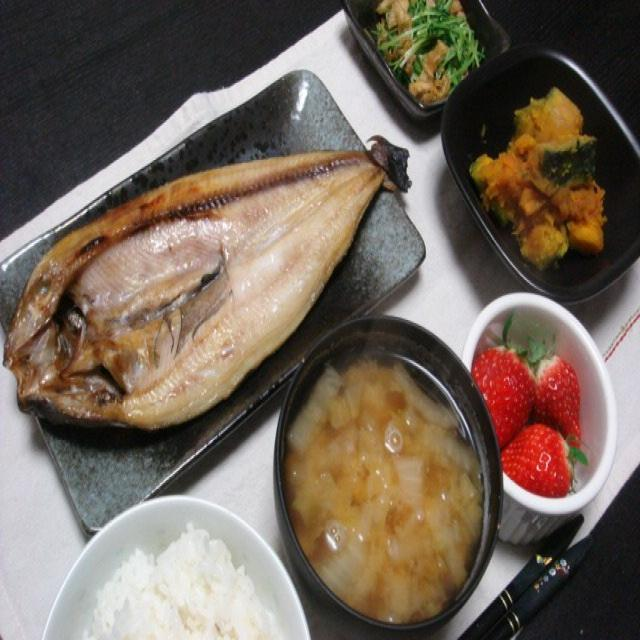熟制海鲜: (0, 130, 412, 430)
